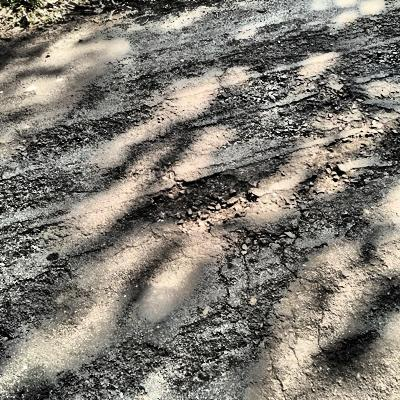pothole: (144, 169, 258, 228)
